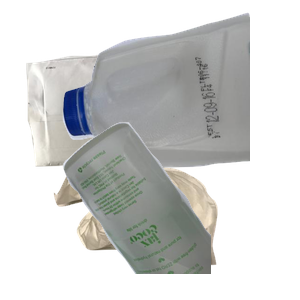glass: (60, 120, 300, 300)
paper: (24, 43, 242, 202)
plastic: (60, 10, 300, 175)
trash: (51, 155, 261, 300)
